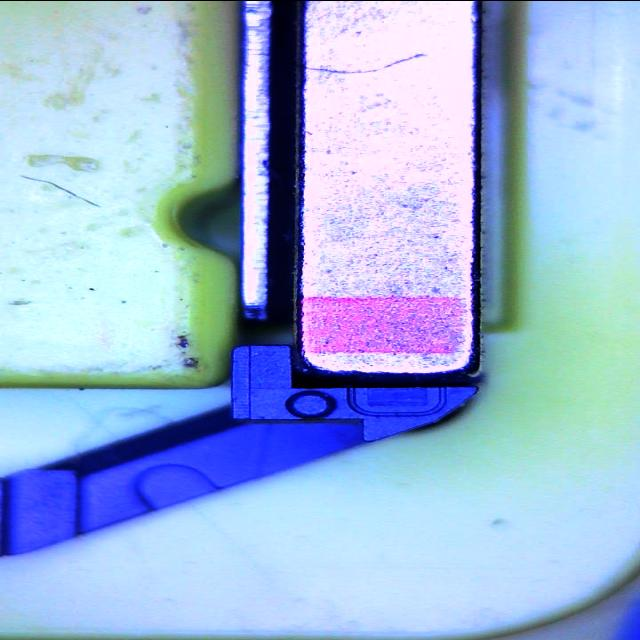noResin: (344, 382, 448, 417)
